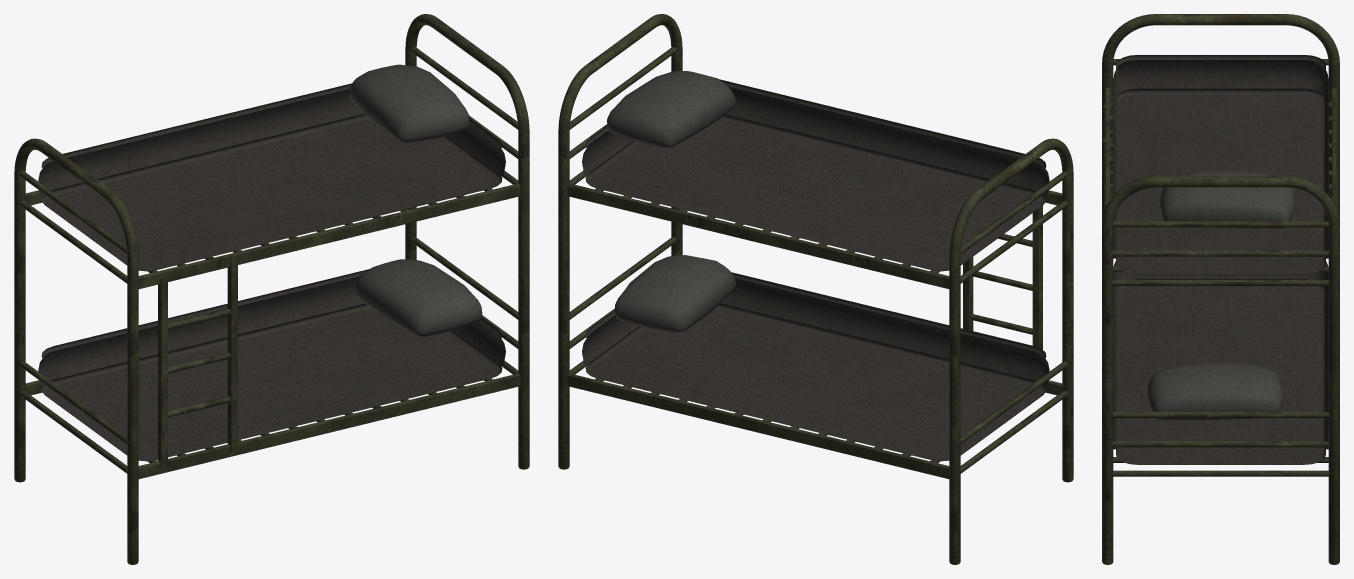
File: bed_2.glb
3 renders of one model, left to right at view 1: azimuth 30°, elevation 25°; view 2: azimuth 150°, elevation 25°; view 3: azimuth 270°, elevation 25°, orthographic.
Parts seen in each view (by area): view 1: bed_2; view 2: bed_2; view 3: bed_2.
Boxes of the visible parts, <box> form: bed_2: <box>14,14,529,564</box>; bed_2: <box>558,14,1073,564</box>; bed_2: <box>1102,14,1339,564</box>.
Bounding box in the file's own units: 2.87 × 2.63 × 1.47.
Materials: 3 (3 with a texture image).
